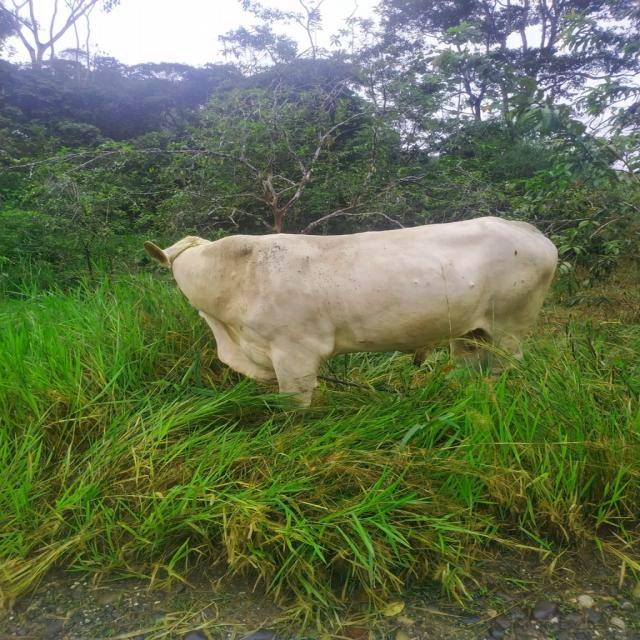cow: (145, 216, 555, 405)
